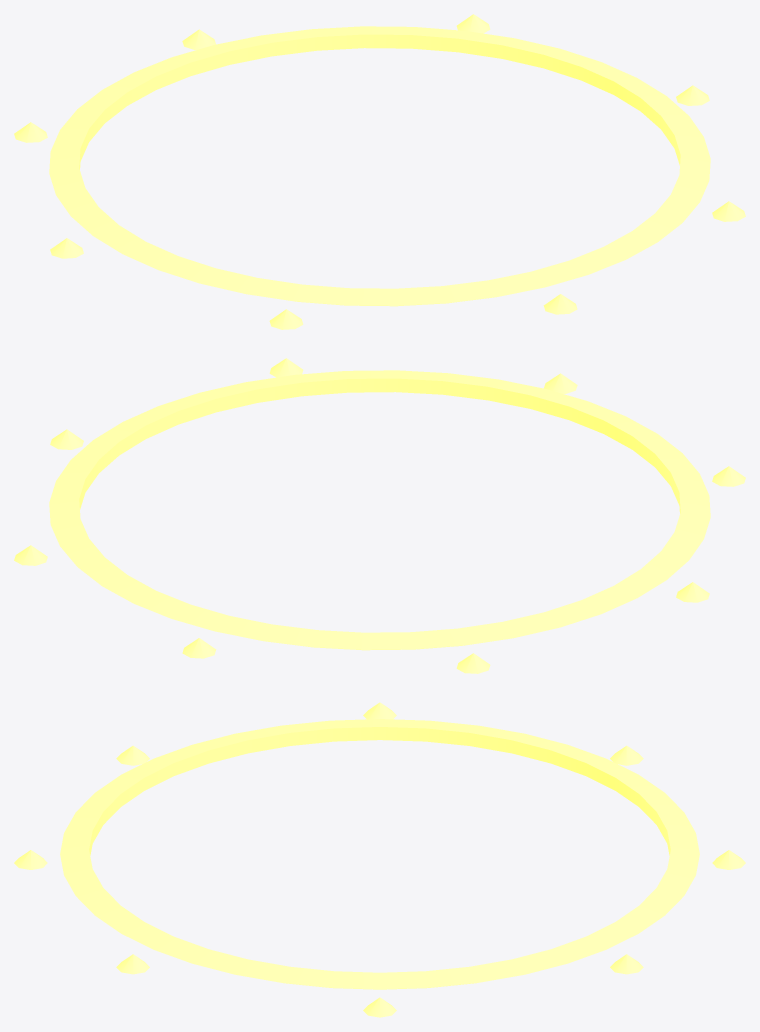
File: lb4_seatring.glb
3 views of the same model, one above another, from view 1: azimuth 30°, elevation 25°; view 2: azimuth 150°, elevation 25°; view 3: azimuth 270°, elevation 25° (orthographic). The views are drawn at different scales.
Visible parts, largest first — view 1: lb4_seatring; view 2: lb4_seatring; view 3: lb4_seatring.
Part boxes in pixels (x1,y1,x2,y2): lb4_seatring: (14, 14, 745, 329); lb4_seatring: (14, 358, 745, 673); lb4_seatring: (14, 702, 745, 1017).
Size of the model in its own units: 1.51 by 0.03 by 1.51.
